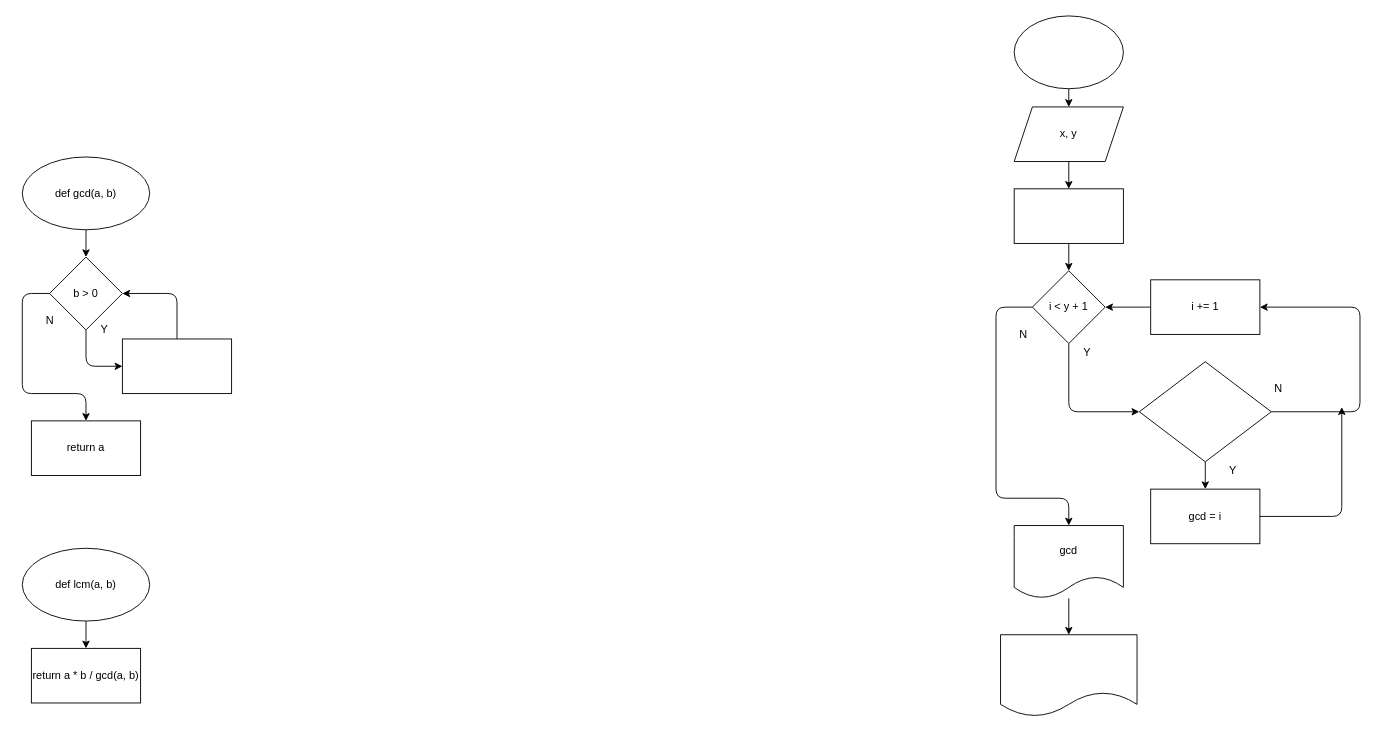
Some shapes in this 1383 by 733 pixel diagram are drawn without their labels. The shapes that lost their labels are listed below. From the top down, each one's centre as x and y in pixels, then its label:
At [1068,52]: "start".
At [1068,215]: "i = 1".
At [176,366]: "a, b = b, a % b".
At [1204,411]: "x % i == 0 and y % i == 0".
At [1068,675]: "gcd * (x // gcd) * (y // gcd )".
